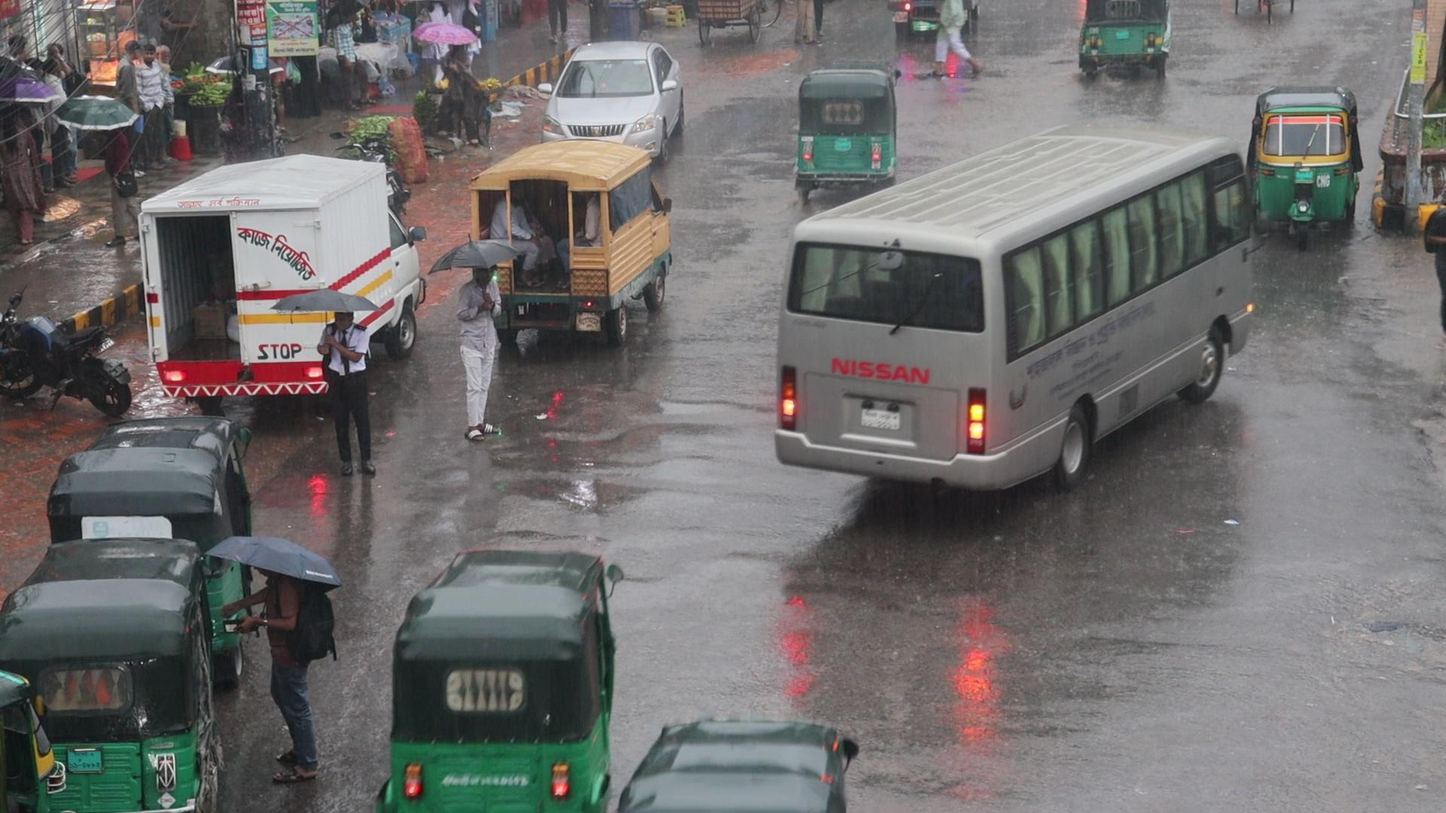Bus: (770, 121, 1268, 500)
Car: (536, 35, 686, 139)
Truck: (465, 139, 673, 344)
